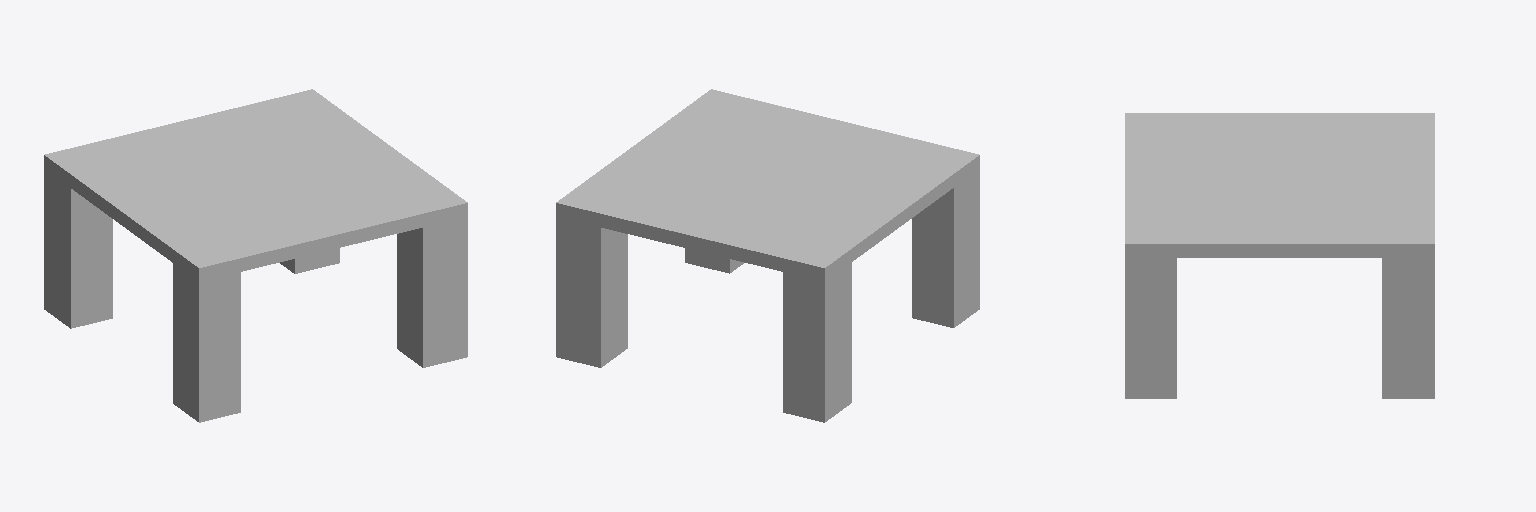
The model's file is Tafel.obj.
3 views of the same model, side by side, from view 1: azimuth 30°, elevation 25°; view 2: azimuth 150°, elevation 25°; view 3: azimuth 270°, elevation 25° (orthographic).
Parts seen in each view (by area): view 1: Cube_Cube.001; view 2: Cube_Cube.001; view 3: Cube_Cube.001.
Boxes of the visible parts, x1=… form: Cube_Cube.001: x1=44, y1=89, x2=467, y2=422; Cube_Cube.001: x1=556, y1=89, x2=979, y2=422; Cube_Cube.001: x1=1125, y1=113, x2=1434, y2=398.
Bounding box in the file's own units: 2 × 1.1 × 2.